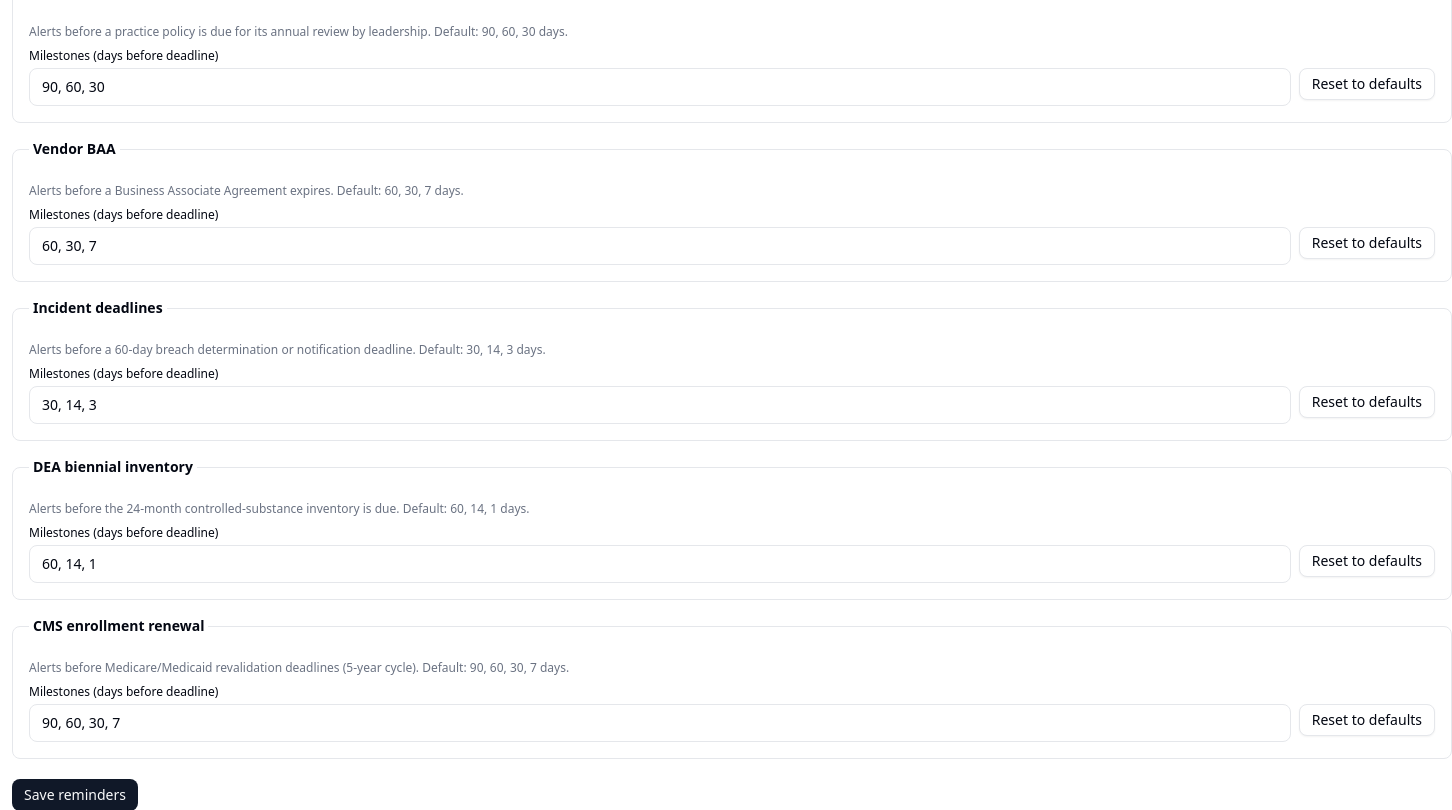
it: <RemindersForm> › axe-clean with validation errors visible
(page scrolled)
Type "abc" into the field labelled "Milestones (days before deadline)" below "30, 14, 3" at (660, 405), box [29,386,1291,424]
(page scrolled)
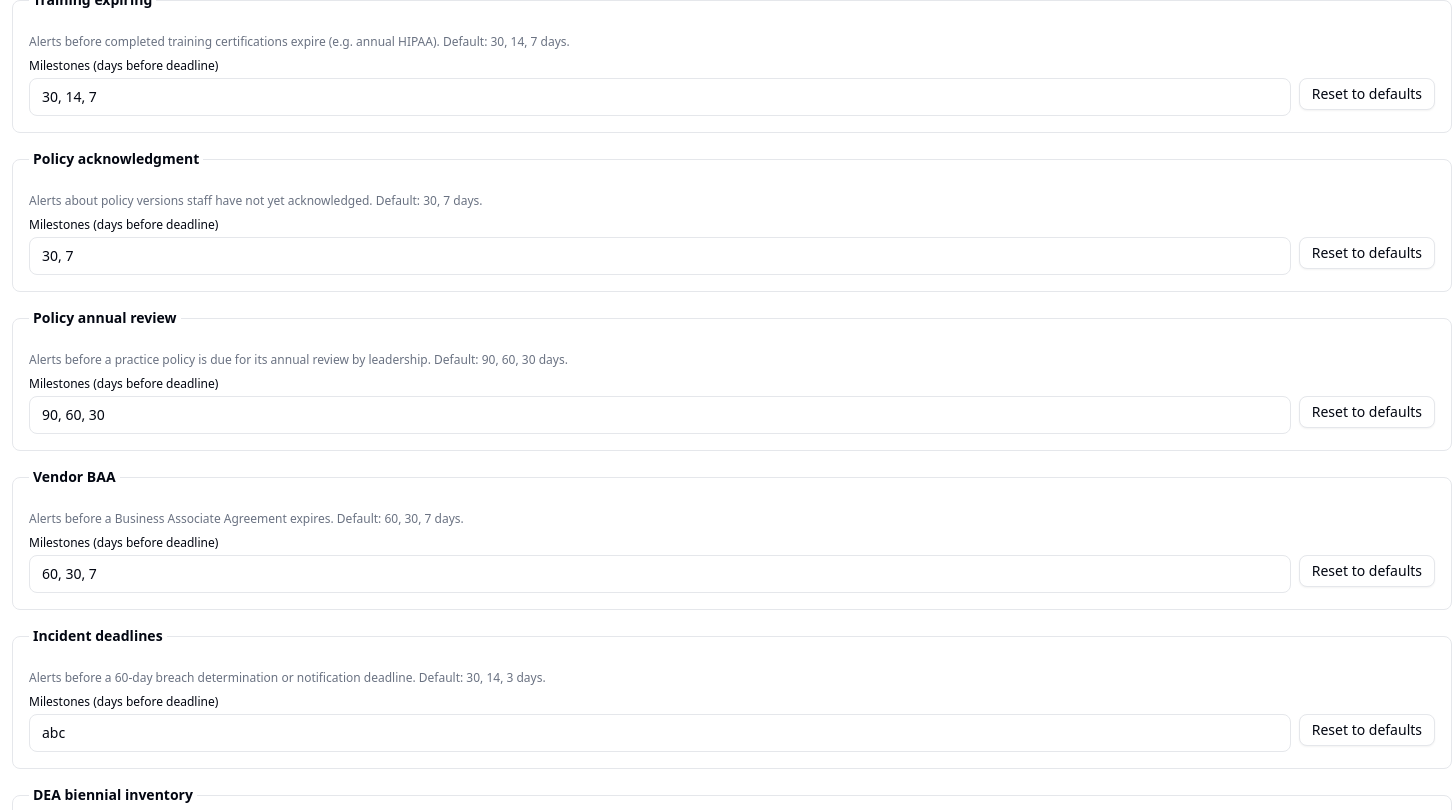
Submit the form named "save reminders"
(page scrolled)
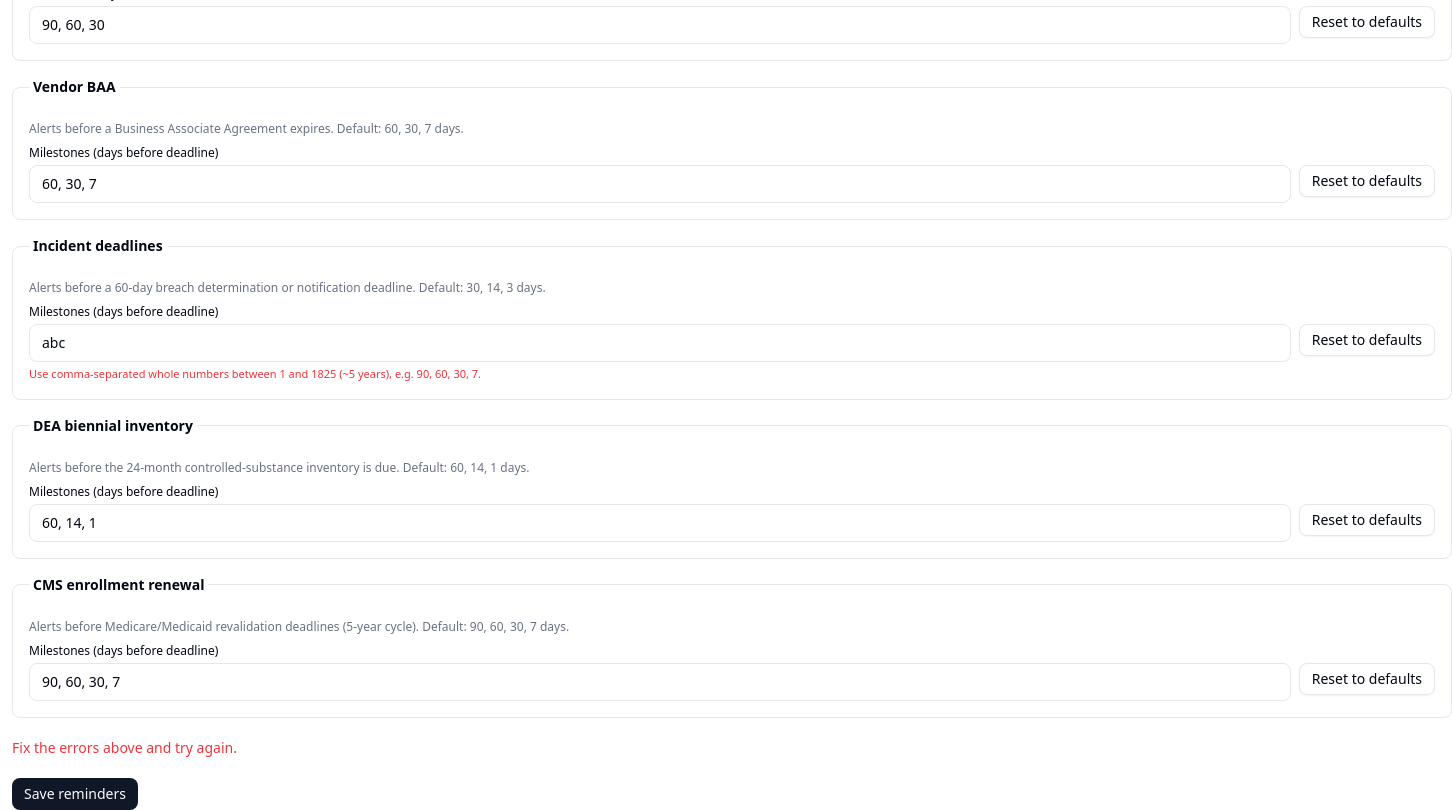
Now the message "Fix the errors above and try again." is shown, box [12,738,237,756]
